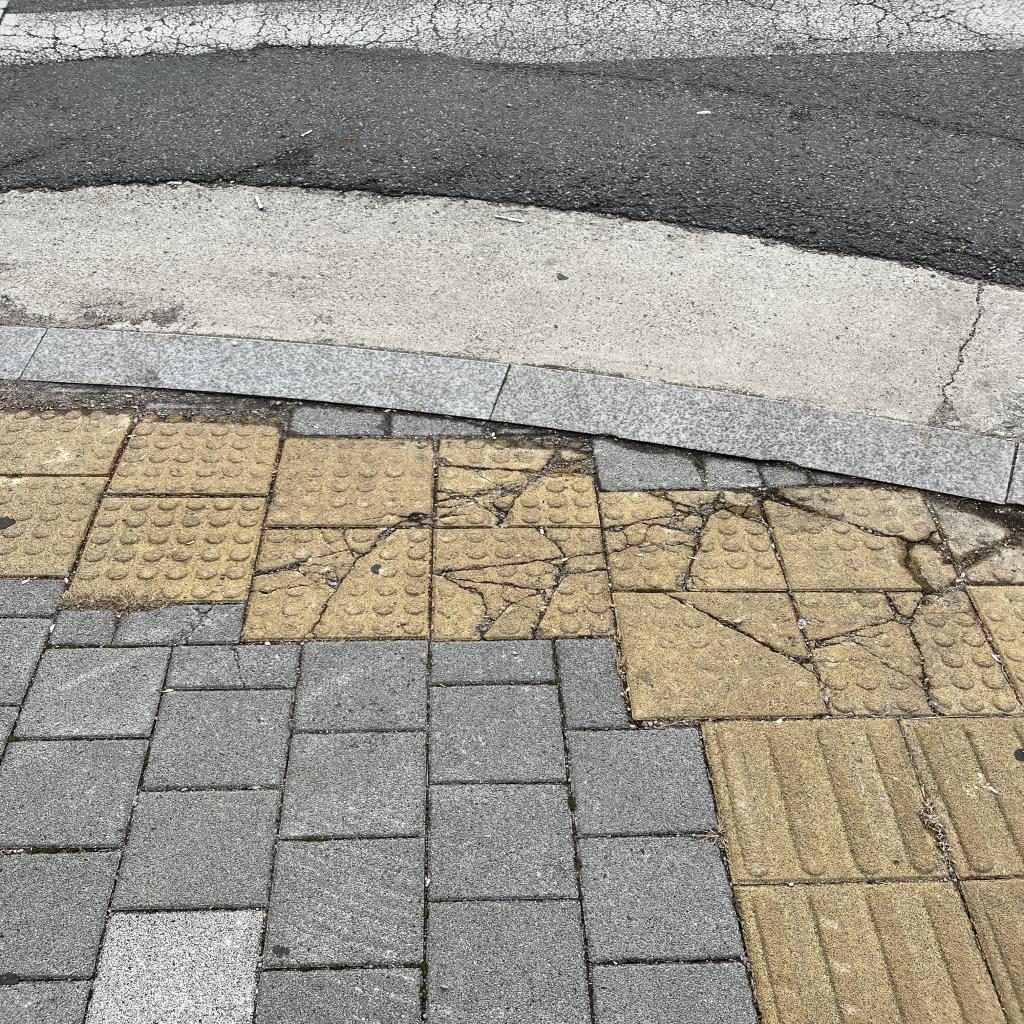Stop block broken: (613, 586, 828, 718), (430, 523, 615, 640)
Stop block normal: (66, 496, 267, 600)
